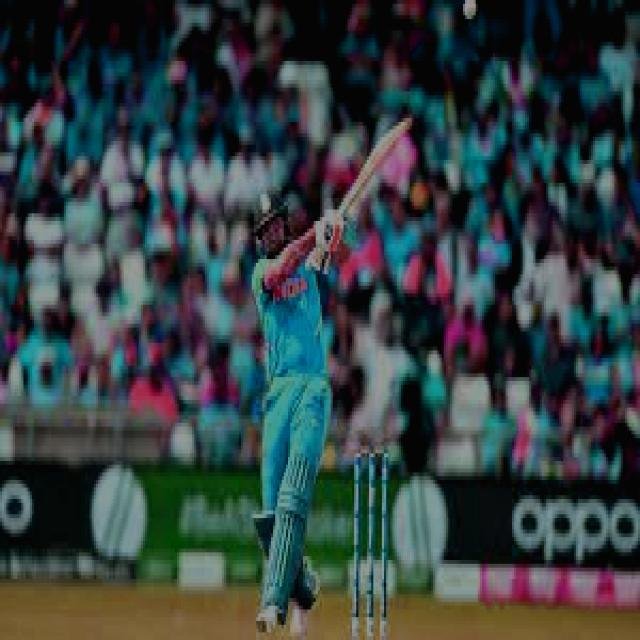toe: (394, 117, 413, 140)
